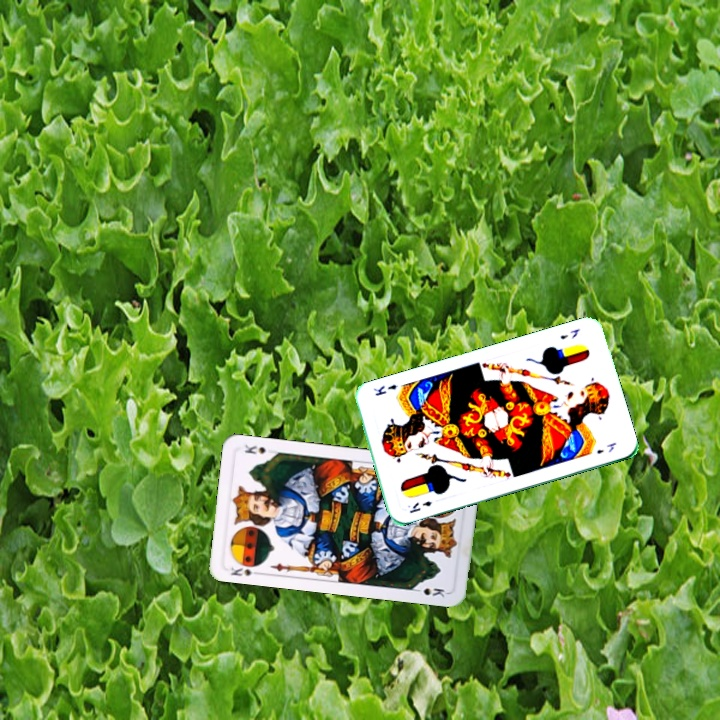EK: (406, 497, 434, 516), (556, 325, 582, 342)
SK: (226, 563, 264, 579)
